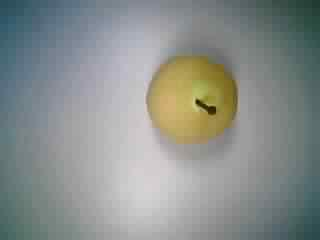pear: (131, 47, 250, 153)
